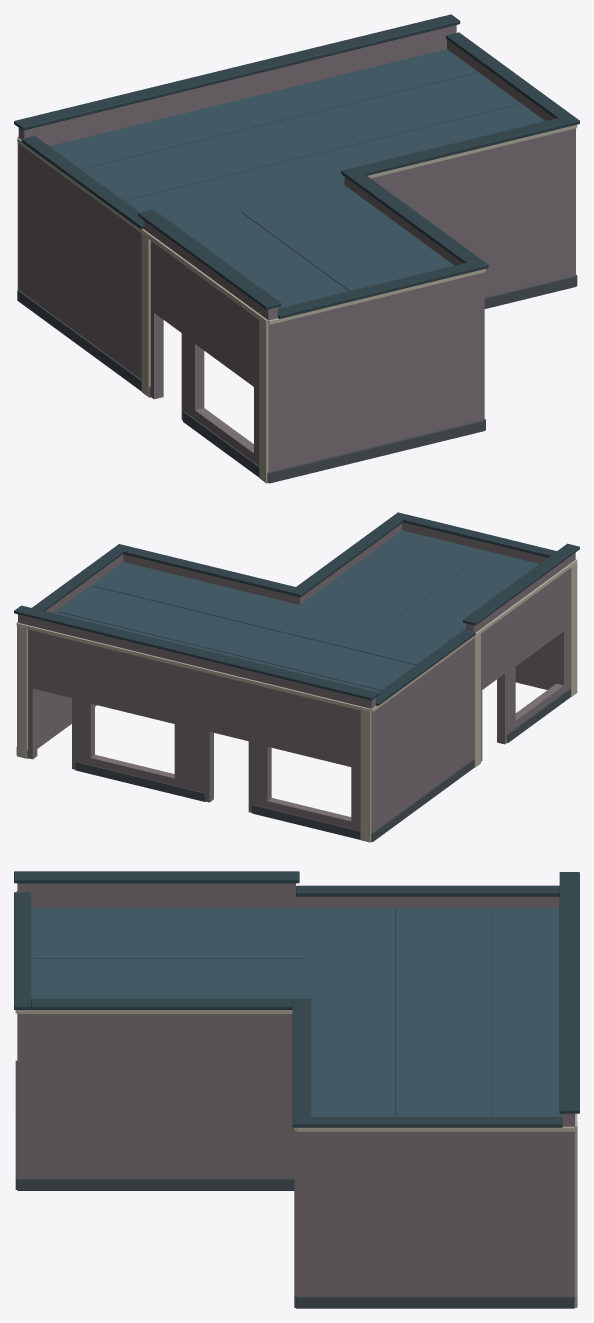
The model's file is city_small_shop_shells_03.glb.
3 renders of one model, top to bottom at view 1: azimuth 30°, elevation 25°; view 2: azimuth 150°, elevation 25°; view 3: azimuth 270°, elevation 25°, orthographic. The views are drawn at different scales.
Parts seen in each view (by area): view 1: continuous_L_roof_deck, rear_return_wall, notch_front_wall, west_front_wall, west_wall_openings, front_wall_openings, front_parapet_coping, rear_return_plinth, notch_front_coping, east_front_wall, west_parapet_coping, rear_return_coping (+14 smaller); view 2: continuous_L_roof_deck, front_wall_openings, west_front_wall, west_wall_openings, front_parapet_coping, rear_return_wall, east_front_wall, notch_front_coping, front_head_course, west_parapet_coping, front_pier_left, rear_return_coping (+15 smaller); view 3: continuous_L_roof_deck, east_front_wall, notch_west_wall, west_wall_openings, front_parapet_coping, west_parapet_coping, east_front_plinth, notch_west_plinth, west_front_wall, west_front_coping, notch_west_coping, east_front_coping (+7 smaller).
Boxes of the visible parts, left/top/right/bottom form: continuous_L_roof_deck: left=49, top=49, right=544, bottom=308; rear_return_wall: left=278, top=272, right=484, bottom=469; notch_front_wall: left=371, top=131, right=566, bottom=297; west_front_wall: left=24, top=147, right=141, bottom=379; west_wall_openings: left=143, top=220, right=277, bottom=472; front_wall_openings: left=18, top=25, right=456, bottom=293; front_parapet_coping: left=14, top=14, right=460, bottom=130; rear_return_plinth: left=268, top=420, right=485, bottom=483; notch_front_coping: left=341, top=118, right=566, bottom=179; east_front_wall: left=447, top=40, right=575, bottom=277; west_parapet_coping: left=138, top=209, right=281, bottom=309; rear_return_coping: left=278, top=259, right=488, bottom=318; continuous_L_roof_deck: left=53, top=530, right=538, bottom=692; front_wall_openings: left=18, top=614, right=375, bottom=841; west_front_wall: left=376, top=639, right=473, bottom=829; west_wall_openings: left=466, top=552, right=575, bottom=761; front_parapet_coping: left=14, top=605, right=378, bottom=700; rear_return_wall: left=402, top=522, right=556, bottom=689; east_front_wall: left=37, top=554, right=123, bottom=748; notch_front_coping: left=123, top=546, right=307, bottom=597; front_head_course: left=17, top=622, right=371, bottom=712; west_parapet_coping: left=463, top=543, right=579, bottom=625; front_pier_left: left=360, top=709, right=371, bottom=842; rear_return_coping: left=392, top=512, right=556, bottom=557; continuous_L_roof_deck: left=31, top=908, right=562, bottom=1116; east_front_wall: left=296, top=1131, right=562, bottom=1296; notch_west_wall: left=29, top=1014, right=295, bottom=1178; west_wall_openings: left=17, top=883, right=295, bottom=907; front_parapet_coping: left=559, top=872, right=579, bottom=1113; west_parapet_coping: left=14, top=871, right=299, bottom=883; east_front_plinth: left=296, top=1296, right=574, bottom=1308; notch_west_plinth: left=17, top=1178, right=295, bottom=1190; west_front_wall: left=296, top=896, right=559, bottom=907; west_front_coping: left=296, top=885, right=559, bottom=896; notch_west_coping: left=31, top=998, right=292, bottom=1009; east_front_coping: left=292, top=1117, right=562, bottom=1127.
Bounding box in the file's own units: 13 × 5.05 × 13.
